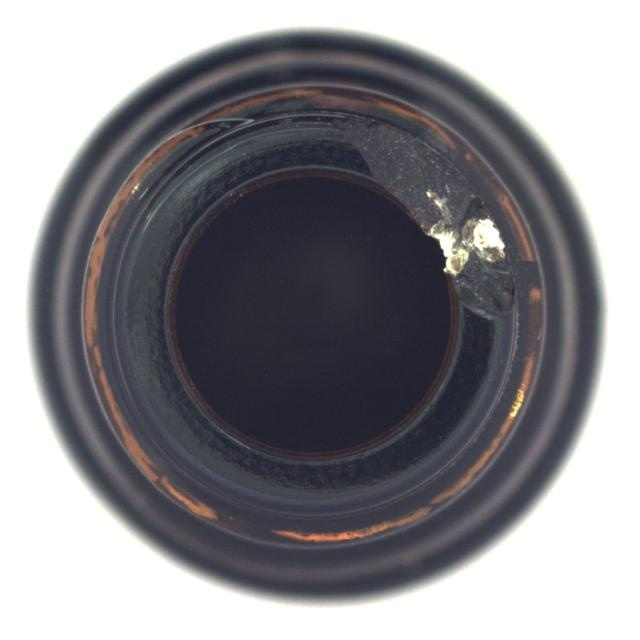bad-broken_small: (26, 29, 610, 607)
